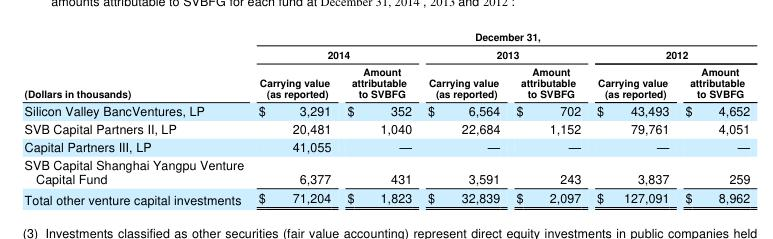table: (23, 29, 749, 208)
table column: (23, 29, 250, 208), (250, 29, 338, 208), (419, 29, 507, 208), (588, 29, 676, 208), (338, 29, 419, 208), (507, 29, 588, 208), (676, 29, 749, 208)
table column header: (23, 29, 749, 101)
table row: (23, 62, 749, 101), (23, 155, 749, 187), (23, 187, 749, 208), (23, 101, 749, 119), (23, 119, 749, 137), (23, 137, 749, 155), (23, 45, 749, 62), (23, 29, 749, 45)
table spanning cell: (23, 29, 250, 101), (250, 29, 749, 45), (250, 45, 419, 62), (419, 45, 588, 62), (588, 45, 749, 62)
